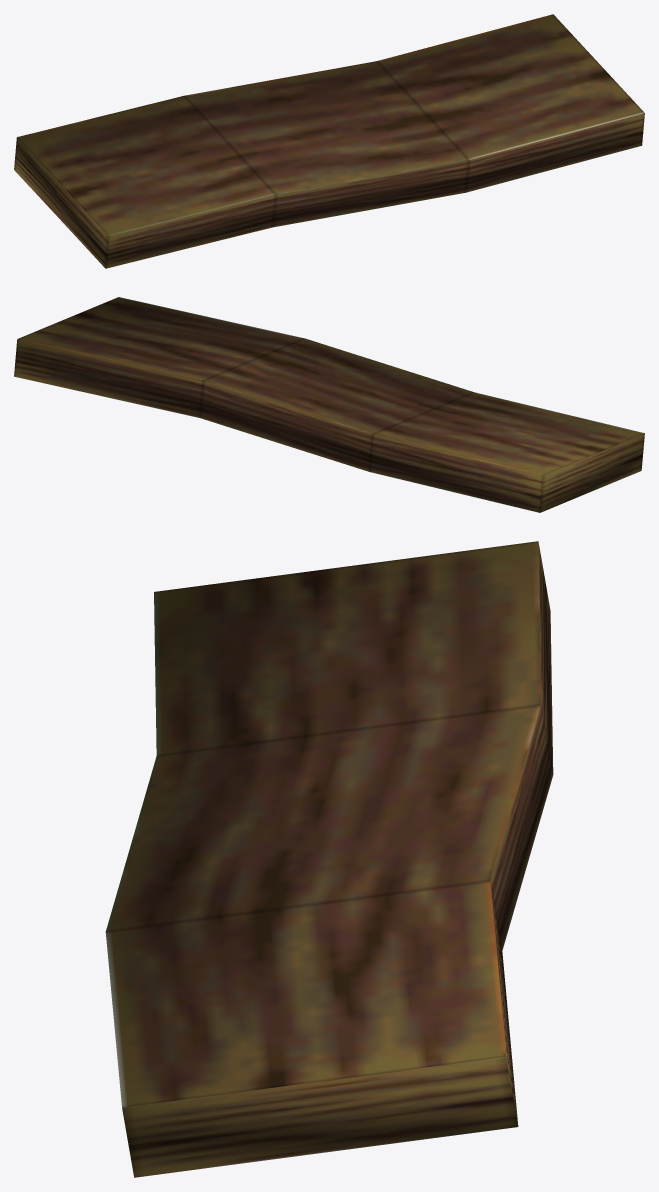
3 views of the same model, one above another, from view 1: azimuth 30°, elevation 25°; view 2: azimuth 150°, elevation 25°; view 3: azimuth 270°, elevation 25° (orthographic). The views are drawn at different scales.
Parts seen in each view (by area): view 1: T1L8M005_11; view 2: T1L8M005_11; view 3: T1L8M005_11.
Boxes of the visible parts, x1,y1,x2,y2 form: T1L8M005_11: (14,14,644,268); T1L8M005_11: (14,297,644,512); T1L8M005_11: (105,541,553,1177).
Bounding box in the file's own units: 3.16 × 0.3545 × 1.15.
